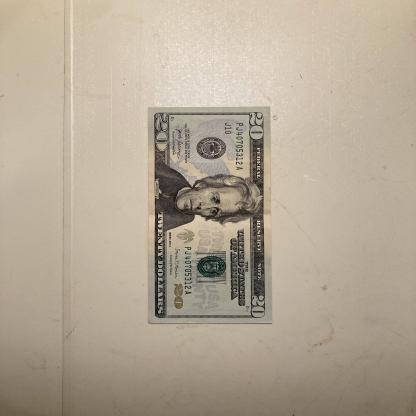twenty-front: (147, 106, 272, 324)
